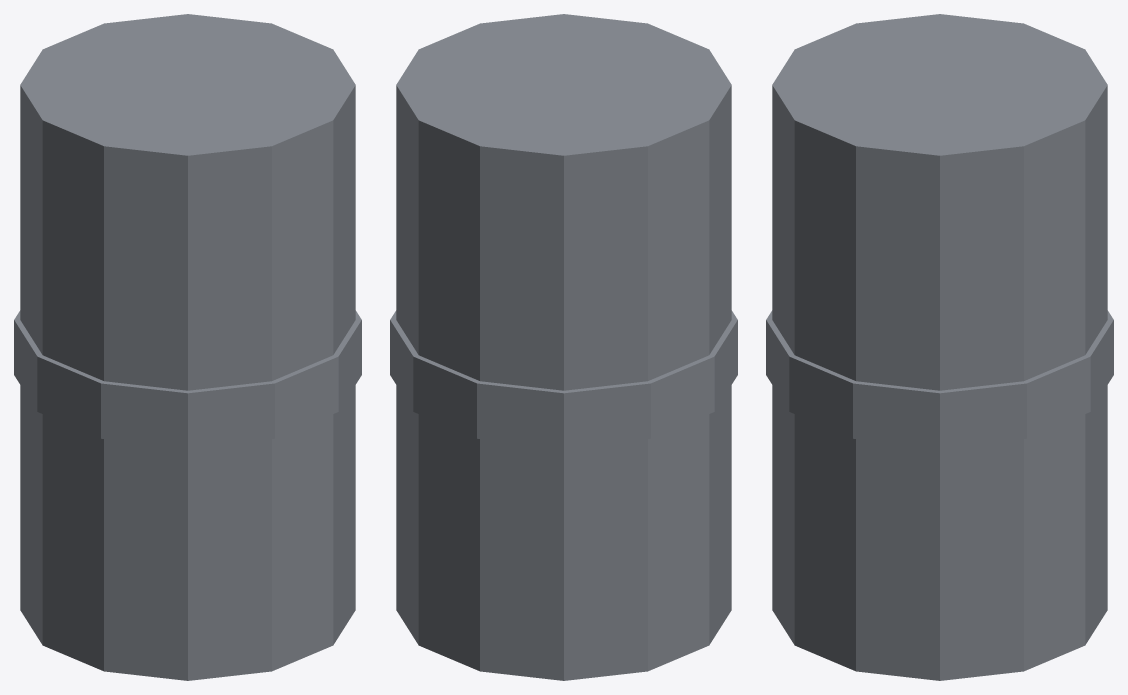
File: TL_Socket_10.fbx
3 views of the same model, side by side, from view 1: azimuth 30°, elevation 25°; view 2: azimuth 150°, elevation 25°; view 3: azimuth 270°, elevation 25° (orthographic).
Visible parts, largest first — view 1: TL_Socket_10, TL_Socket_10_ColorRing; view 2: TL_Socket_10, TL_Socket_10_ColorRing; view 3: TL_Socket_10, TL_Socket_10_ColorRing.
Boxes of the visible parts, x1=… form: TL_Socket_10: x1=20, y1=14, x2=355, y2=680; TL_Socket_10_ColorRing: x1=14, y1=310, x2=361, y2=448; TL_Socket_10: x1=396, y1=14, x2=731, y2=680; TL_Socket_10_ColorRing: x1=390, y1=310, x2=737, y2=448; TL_Socket_10: x1=772, y1=14, x2=1107, y2=680; TL_Socket_10_ColorRing: x1=766, y1=310, x2=1113, y2=448.
Bounding box in the file's own units: 0.0228 × 0.038 × 0.0228.
Materials: 1 (1 with a texture image).
